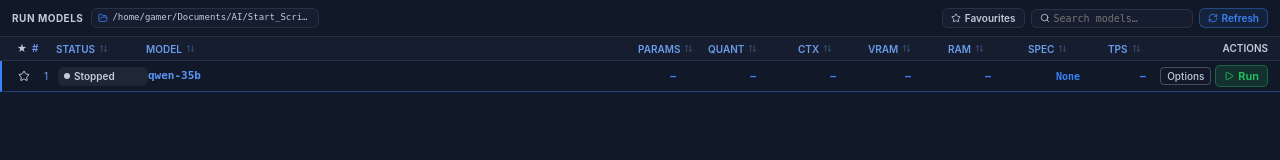
it: T235 script-declared launch options › clicking Options button again hides the panel
The image size is (1280, 160).
Check: the text "qwen-35b" is shown, box left=148, top=69, right=201, bottom=82
Click the button "Options" at (1186, 76), box left=1160, top=67, right=1211, bottom=85
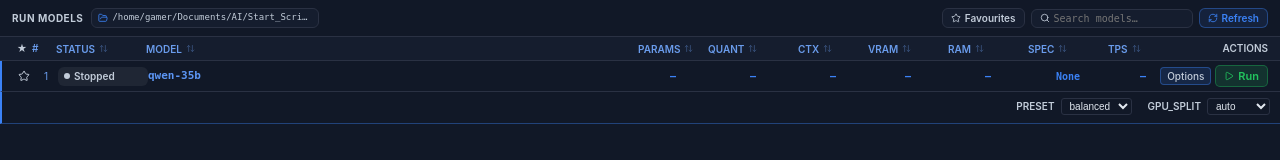
Check: the element with test id "run-models-options-panel" is shown, box left=0, top=91, right=1279, bottom=124
Click the button "Options" at (1186, 76), box left=1160, top=67, right=1211, bottom=85
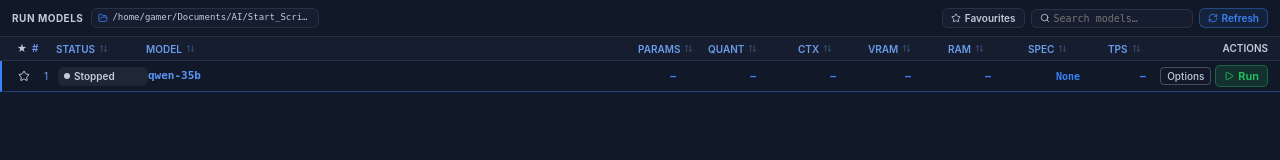
Check: the element with test id "run-models-options-panel" is gone
